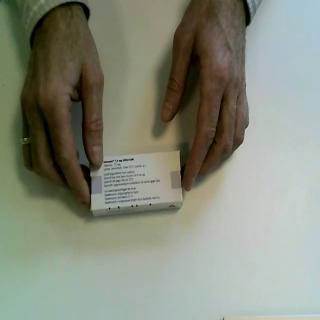imovane7-5mg: (90, 150, 185, 220)
